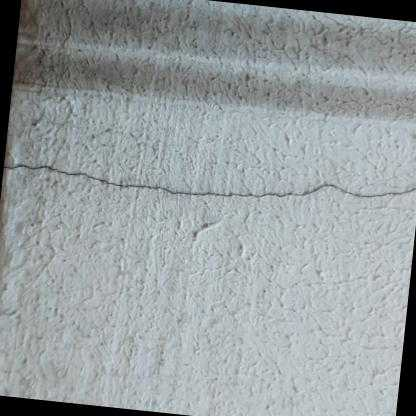crack: (6, 161, 416, 199)
